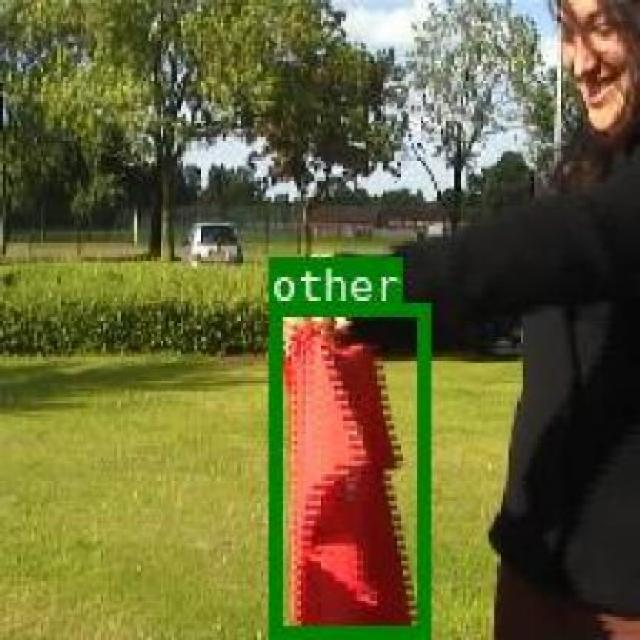other: (268, 302, 427, 635)
